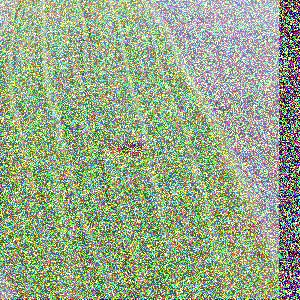Bacterial_Leaf_Blight: (102, 132, 153, 165), (221, 214, 267, 240), (240, 217, 266, 237), (70, 33, 94, 47), (249, 247, 269, 263), (212, 178, 229, 192), (221, 222, 238, 232), (233, 231, 244, 238)
